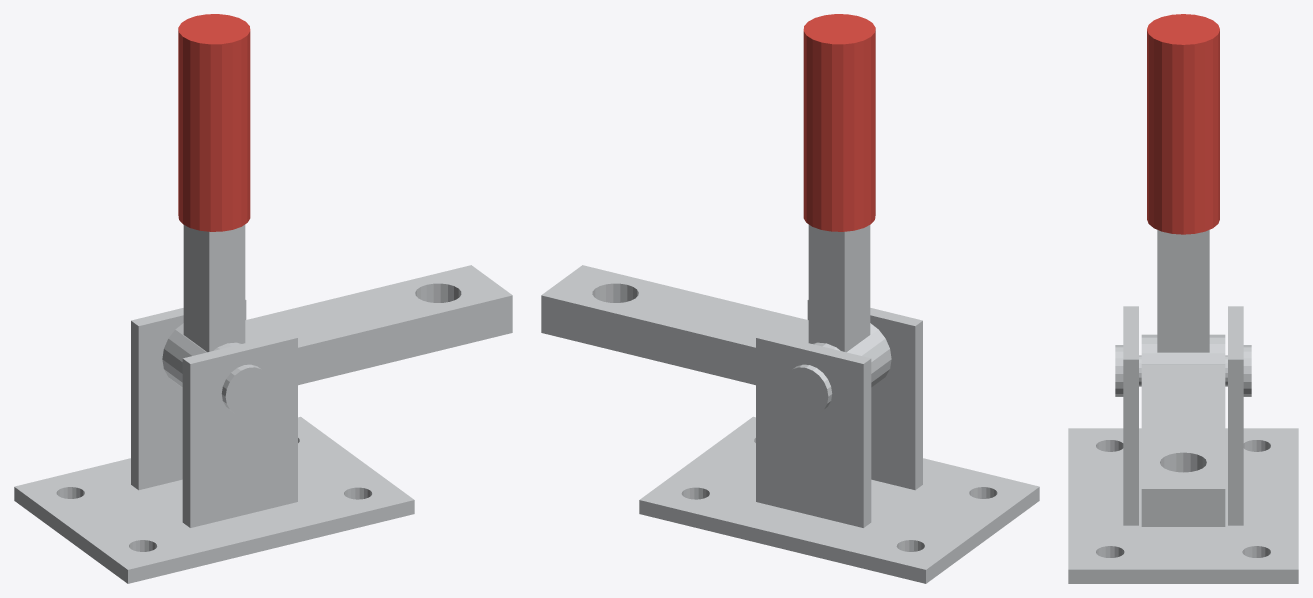
Rendered from clamp-toggle.glb.
3 views of the same model, side by side, from view 1: azimuth 30°, elevation 25°; view 2: azimuth 150°, elevation 25°; view 3: azimuth 270°, elevation 25° (orthographic).
Visible parts, largest first — view 1: body, arm; view 2: body, arm; view 3: arm, body.
Part boxes in pixels (box(x1,y1,x2,y2)): body: box(14, 299, 414, 583); arm: box(162, 14, 512, 387); body: box(639, 299, 1039, 583); arm: box(541, 14, 891, 387); arm: box(1141, 14, 1225, 526); body: box(1068, 306, 1298, 583).
Size of what is drawn, in the model's own units: 0.094 by 0.102 by 0.044.
